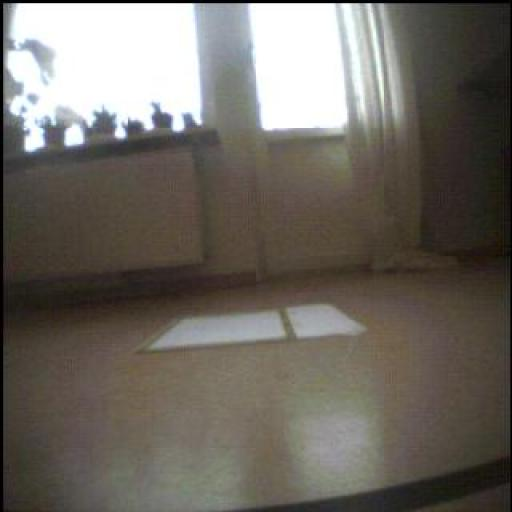Pad: (134, 296, 364, 355)
